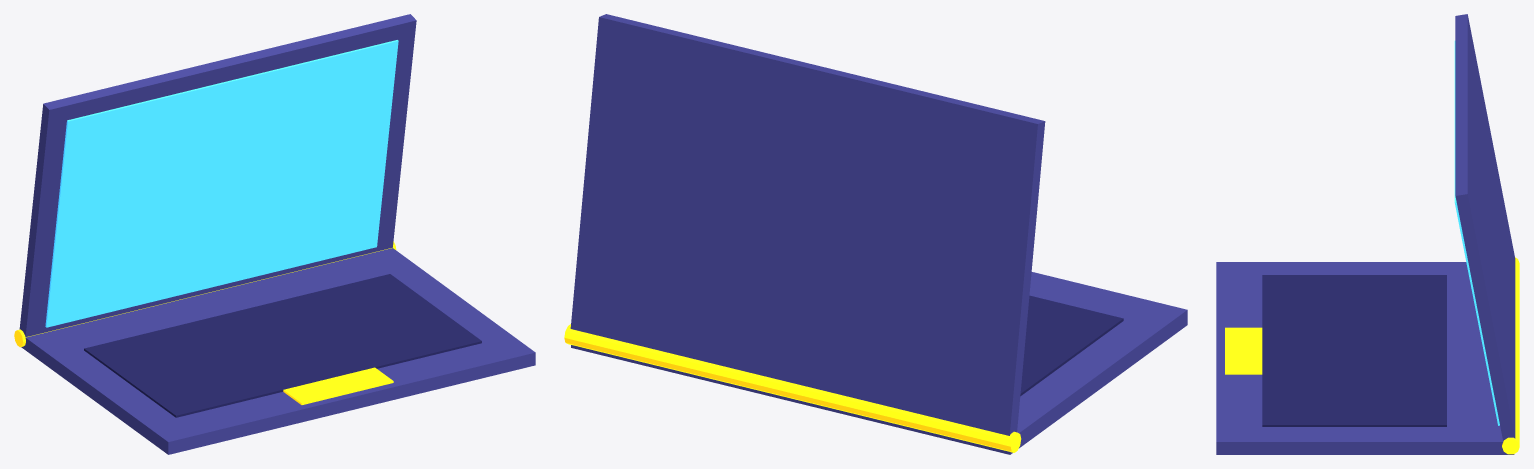
The model's file is laptop.glb.
The picture shows the model from 3 angles, left to right: view 1: azimuth 30°, elevation 25°; view 2: azimuth 150°, elevation 25°; view 3: azimuth 270°, elevation 25°; orthographic projection. The views are drawn at different scales.
Visible parts, largest first — view 1: panel, shell, keys, trim; view 2: shell, trim, keys; view 3: shell, keys, trim, panel.
Boxes of the visible parts, x1,y1,x2,y2 form: panel: [45, 40, 398, 327]; shell: [19, 14, 535, 454]; keys: [84, 274, 481, 417]; trim: [14, 241, 396, 404]; shell: [570, 14, 1187, 454]; trim: [564, 324, 1021, 452]; keys: [1020, 295, 1123, 396]; shell: [1216, 14, 1515, 454]; keys: [1262, 275, 1446, 426]; trim: [1225, 257, 1519, 454]; panel: [1454, 41, 1499, 425].
Bounding box in the file's own units: 2.44 × 1.62 × 1.71.
